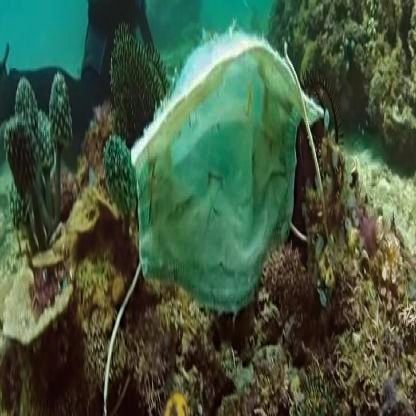Mask: (129, 27, 325, 317)
